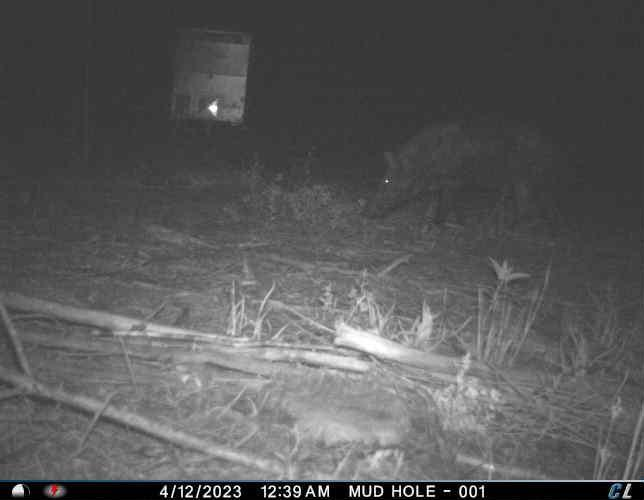Hog: (366, 116, 579, 231)
